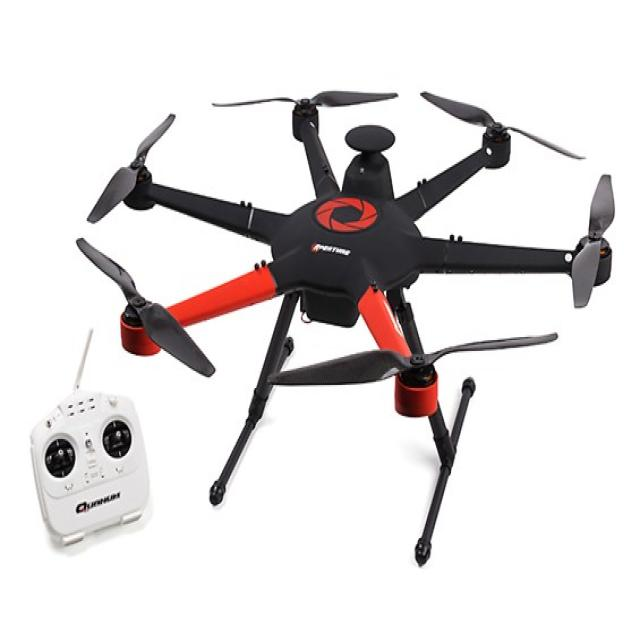drone: (59, 70, 640, 509)
